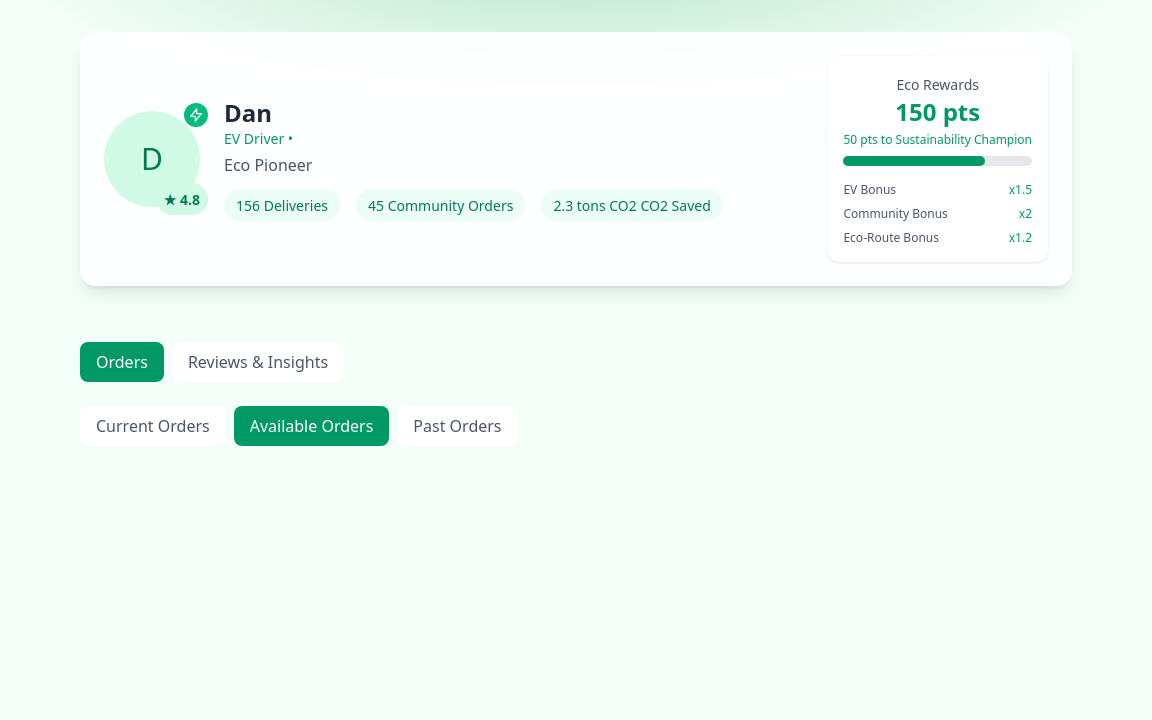
Test: Drivers › displays reviews and insights when reviews section is active
Click the button "Reviews & Insights": (258, 362) [172,342,344,382]
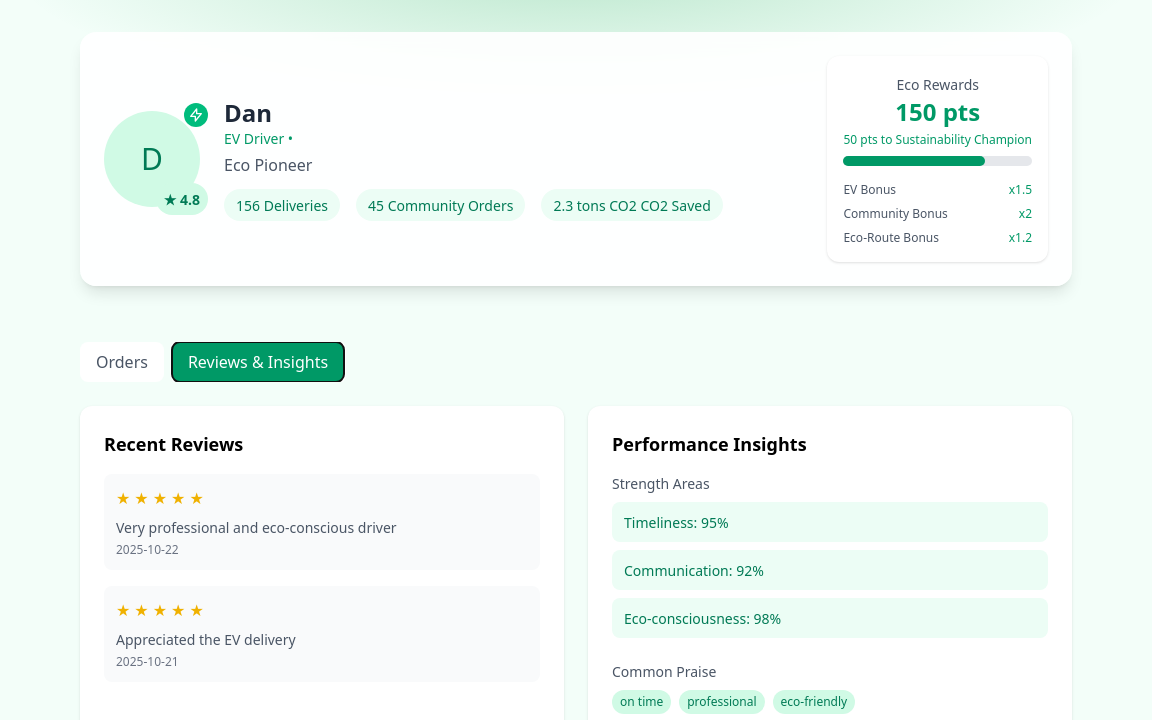
Check: the heading "Recent Reviews" is shown, box [104,432,243,456]
Check: the heading "Performance Insights" is shown, box [612,432,807,456]
